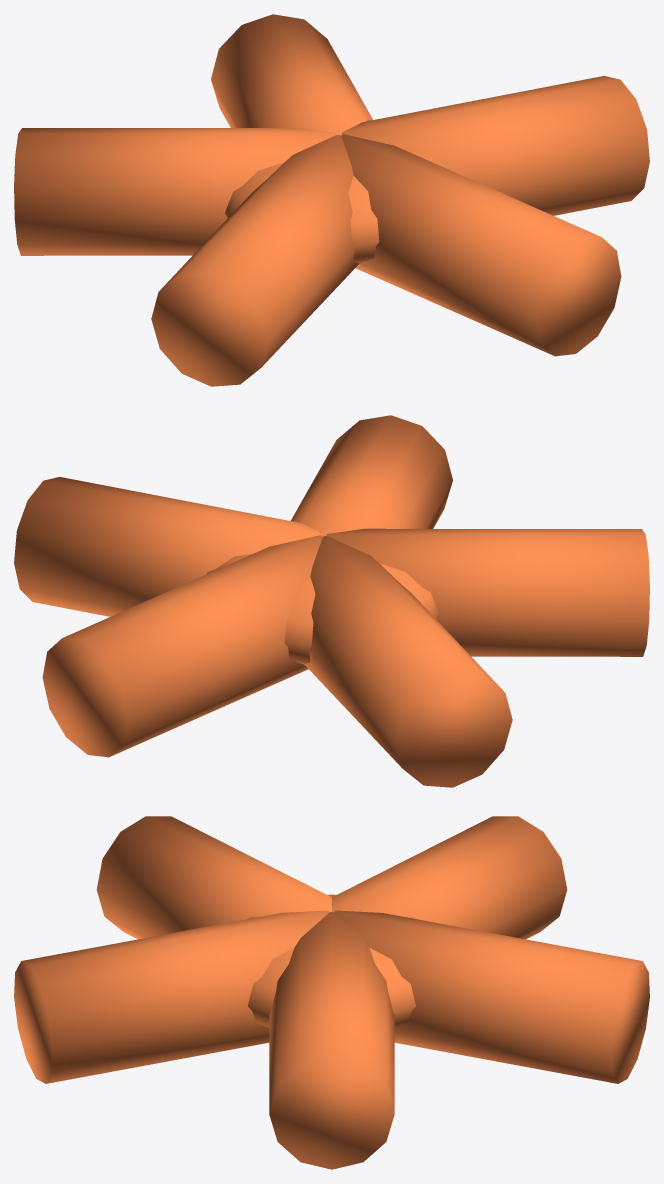
Rendered from starfish.glb.
3 views of the same model, one above another, from view 1: azimuth 30°, elevation 25°; view 2: azimuth 150°, elevation 25°; view 3: azimuth 270°, elevation 25° (orthographic). The views are drawn at different scales.
Visible parts, largest first — view 1: starfish.001; view 2: starfish.001; view 3: starfish.001.
Part boxes in pixels (x1,y1,x2,y2): starfish.001: (14,14,649,386); starfish.001: (14,415,649,787); starfish.001: (14,816,649,1169).
Bounding box in the file's own units: 0.3873 × 0.0899 × 0.4051.
